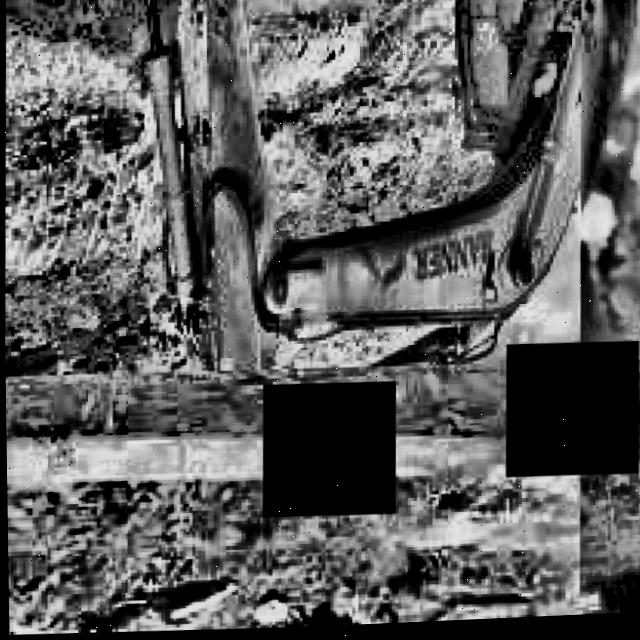excavator: (23, 0, 582, 381)
